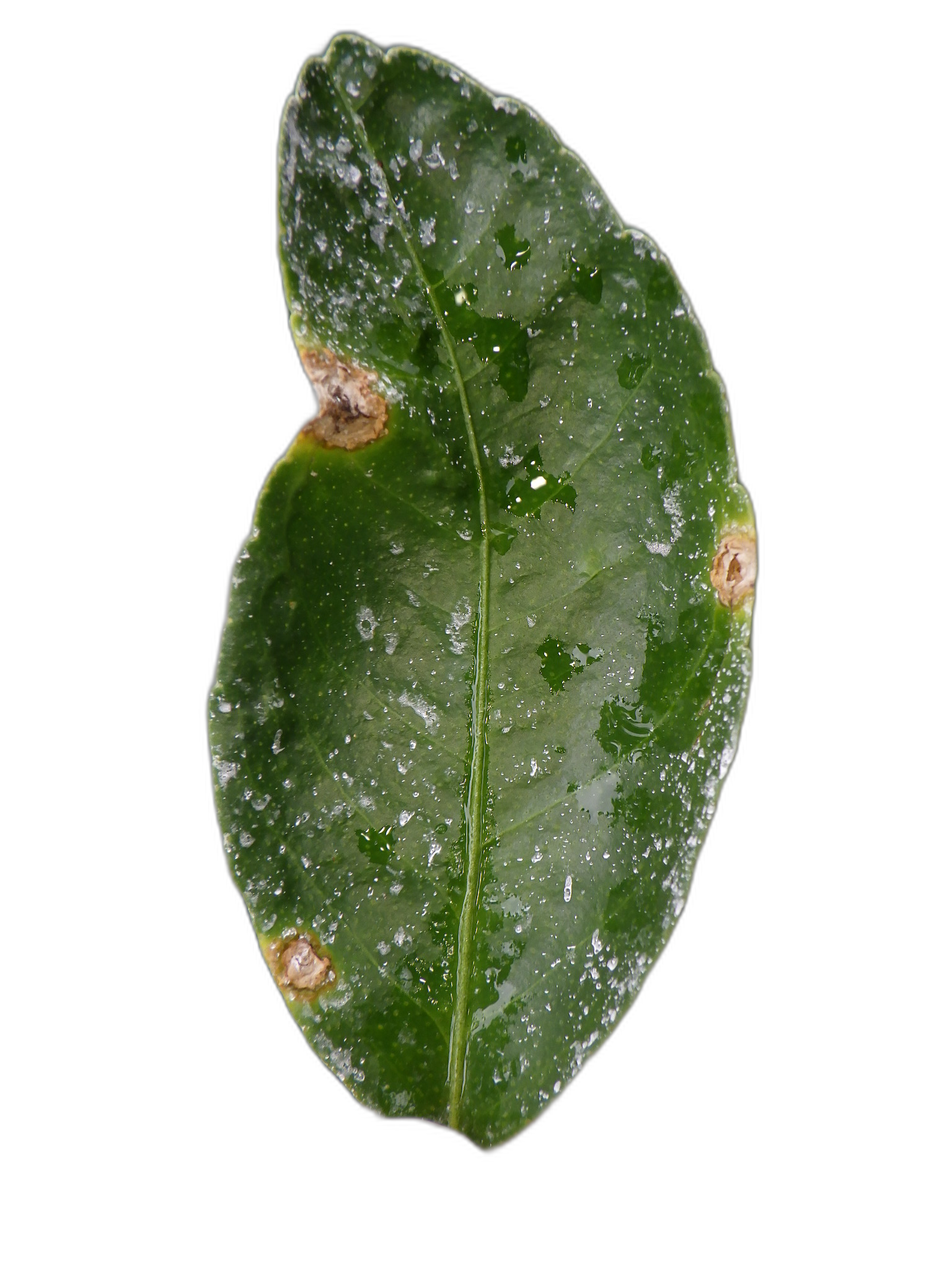Canker: (301, 349, 387, 450), (711, 530, 756, 607), (279, 937, 333, 992)
